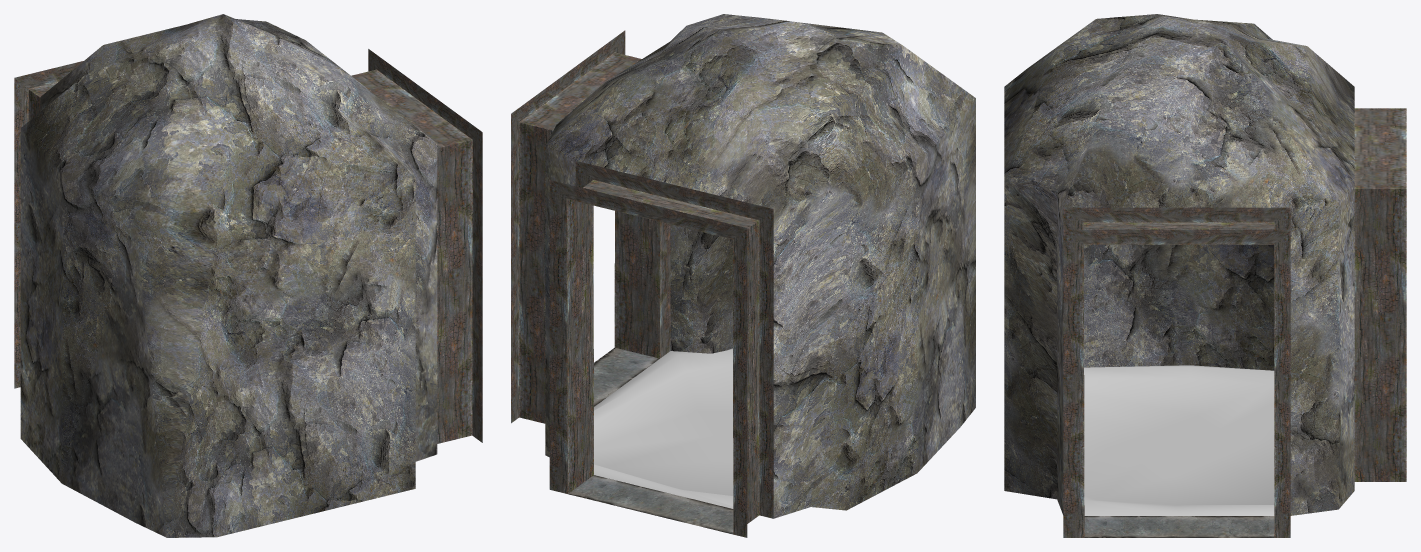
Rendered from RockyTunnel2way.FBX.
3 views of the same model, side by side, from view 1: azimuth 30°, elevation 25°; view 2: azimuth 150°, elevation 25°; view 3: azimuth 270°, elevation 25° (orthographic).
Parts seen in each view (by area): view 1: Object106; view 2: Object106; view 3: Object106.
Part boxes in pixels (bbox=[...]): Object106: bbox=[14, 14, 482, 537]; Object106: bbox=[511, 14, 975, 537]; Object106: bbox=[1004, 14, 1406, 537].
Bounding box in the file's own units: 450 × 498 × 443.
